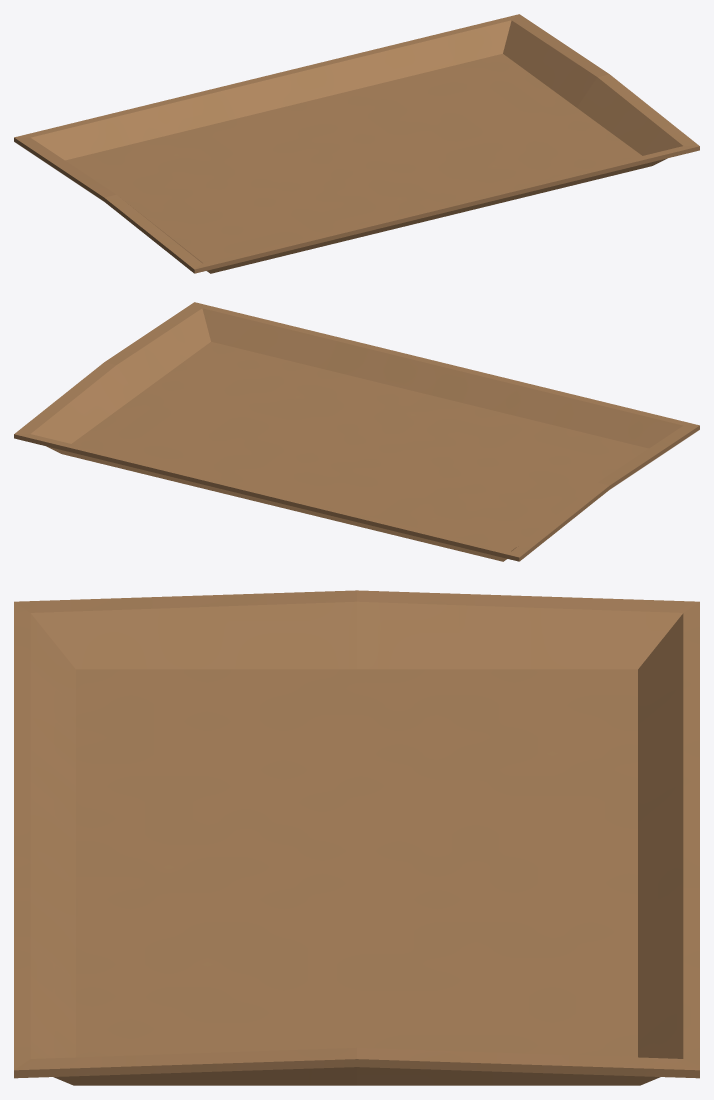
The model's file is Meal_Tray.fbx.
The picture shows the model from 3 angles, top to bottom: view 1: azimuth 30°, elevation 25°; view 2: azimuth 150°, elevation 25°; view 3: azimuth 270°, elevation 25°; orthographic projection. The views are drawn at different scales.
Parts seen in each view (by area): view 1: Meal_Tray; view 2: Meal_Tray; view 3: Meal_Tray.
Boxes of the visible parts, <box> form: Meal_Tray: <box>14,14,699,273</box>; Meal_Tray: <box>14,302,699,561</box>; Meal_Tray: <box>14,590,699,1085</box>.
Bounding box in the file's own units: 0.6304 × 0.035 × 0.3899.
